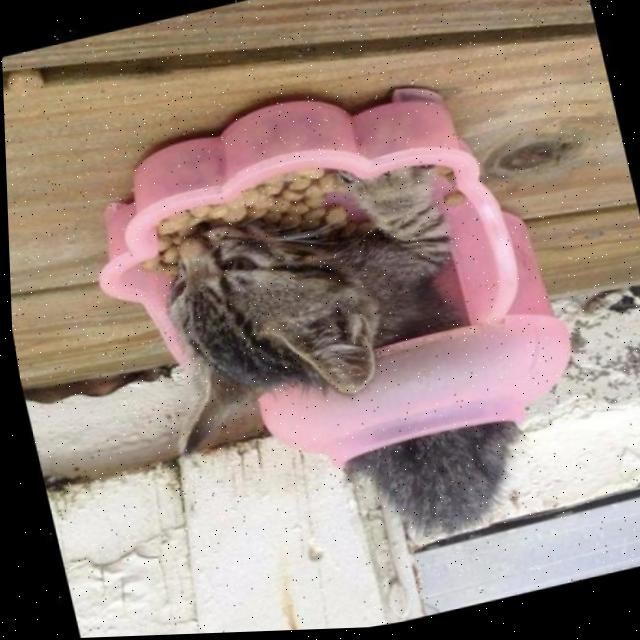Cats: (103, 178, 430, 449)
